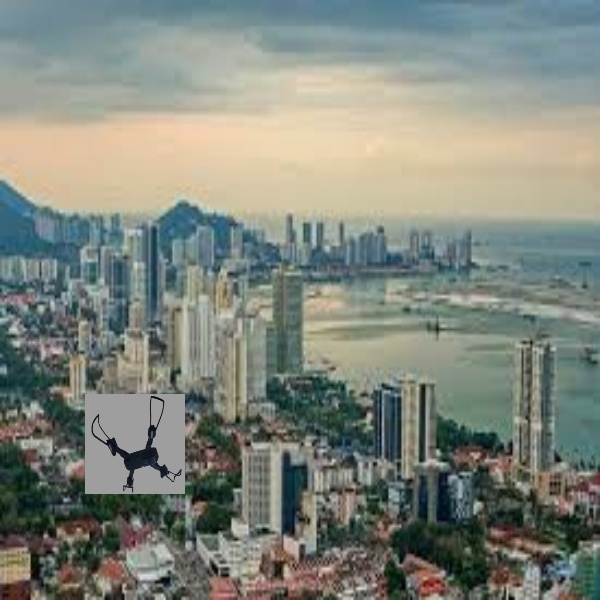drone: (85, 392, 185, 492)
